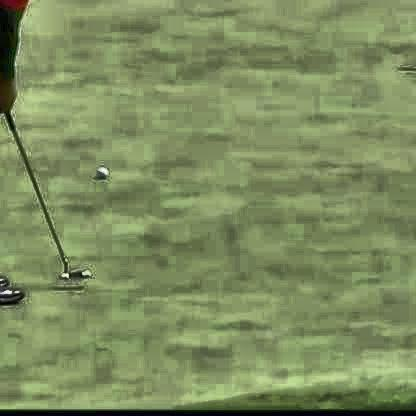golfball: (92, 163, 105, 176)
